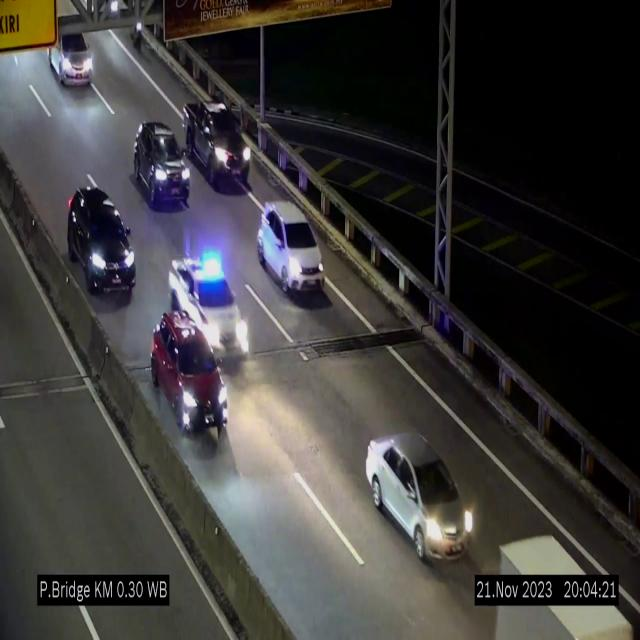Car: (365, 427, 473, 569), (150, 313, 230, 440), (167, 254, 254, 365), (67, 185, 135, 297), (182, 96, 252, 190), (257, 201, 325, 295), (127, 117, 191, 207), (49, 25, 99, 86)
Motorcycle: (125, 12, 149, 62)
Truck: (492, 534, 640, 640)
